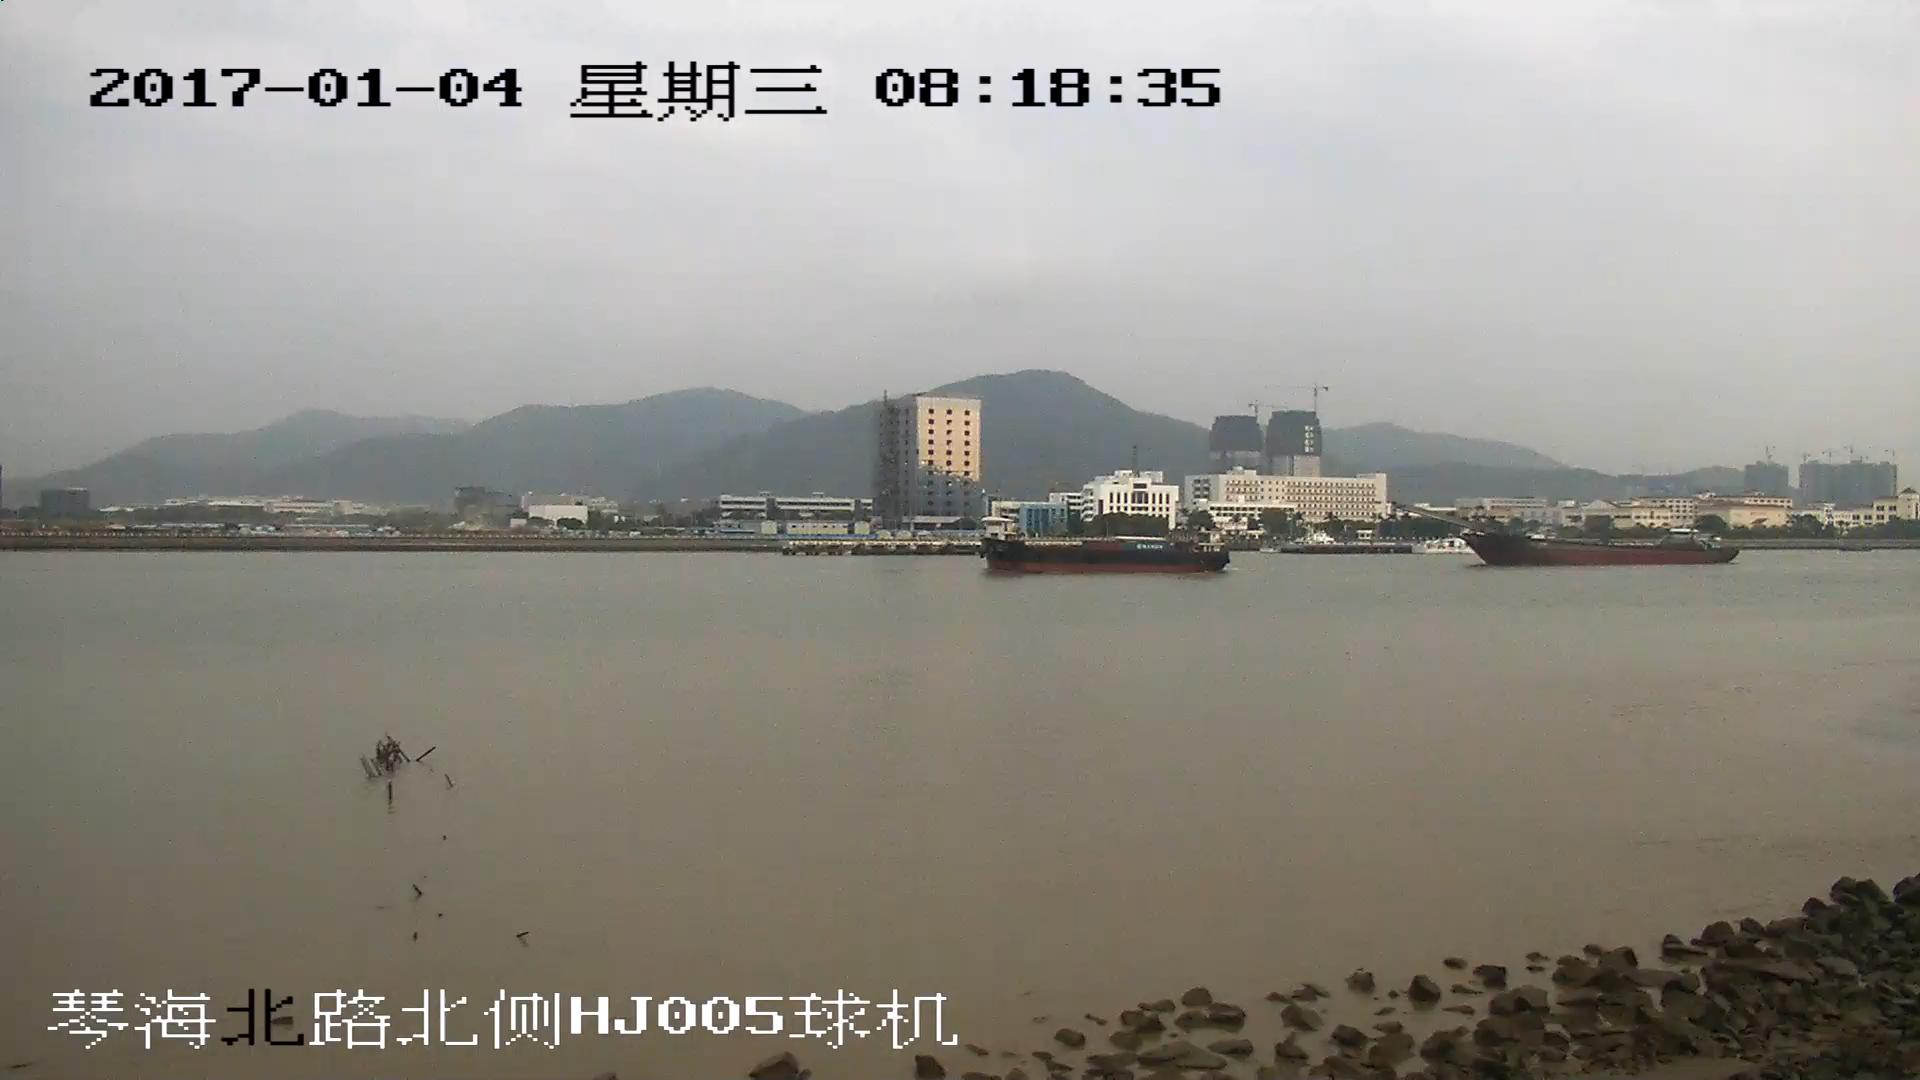Ship: (1403, 504, 1731, 562), (986, 520, 1229, 576)
